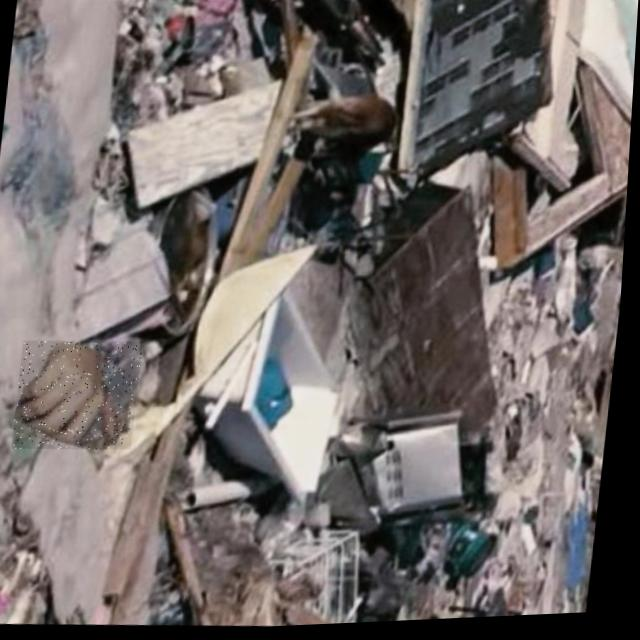Person in Rubble: (16, 337, 146, 455)
